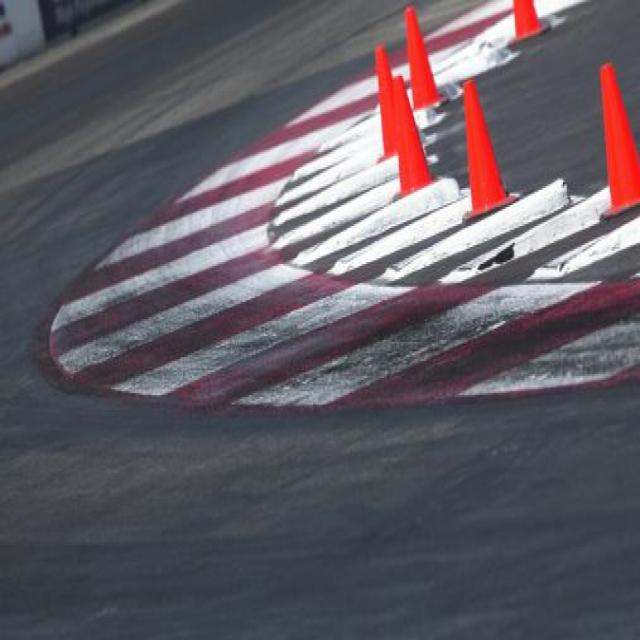Cone: (461, 76, 520, 220), (596, 63, 640, 222), (388, 70, 440, 202), (403, 6, 453, 118), (502, 2, 550, 51)
